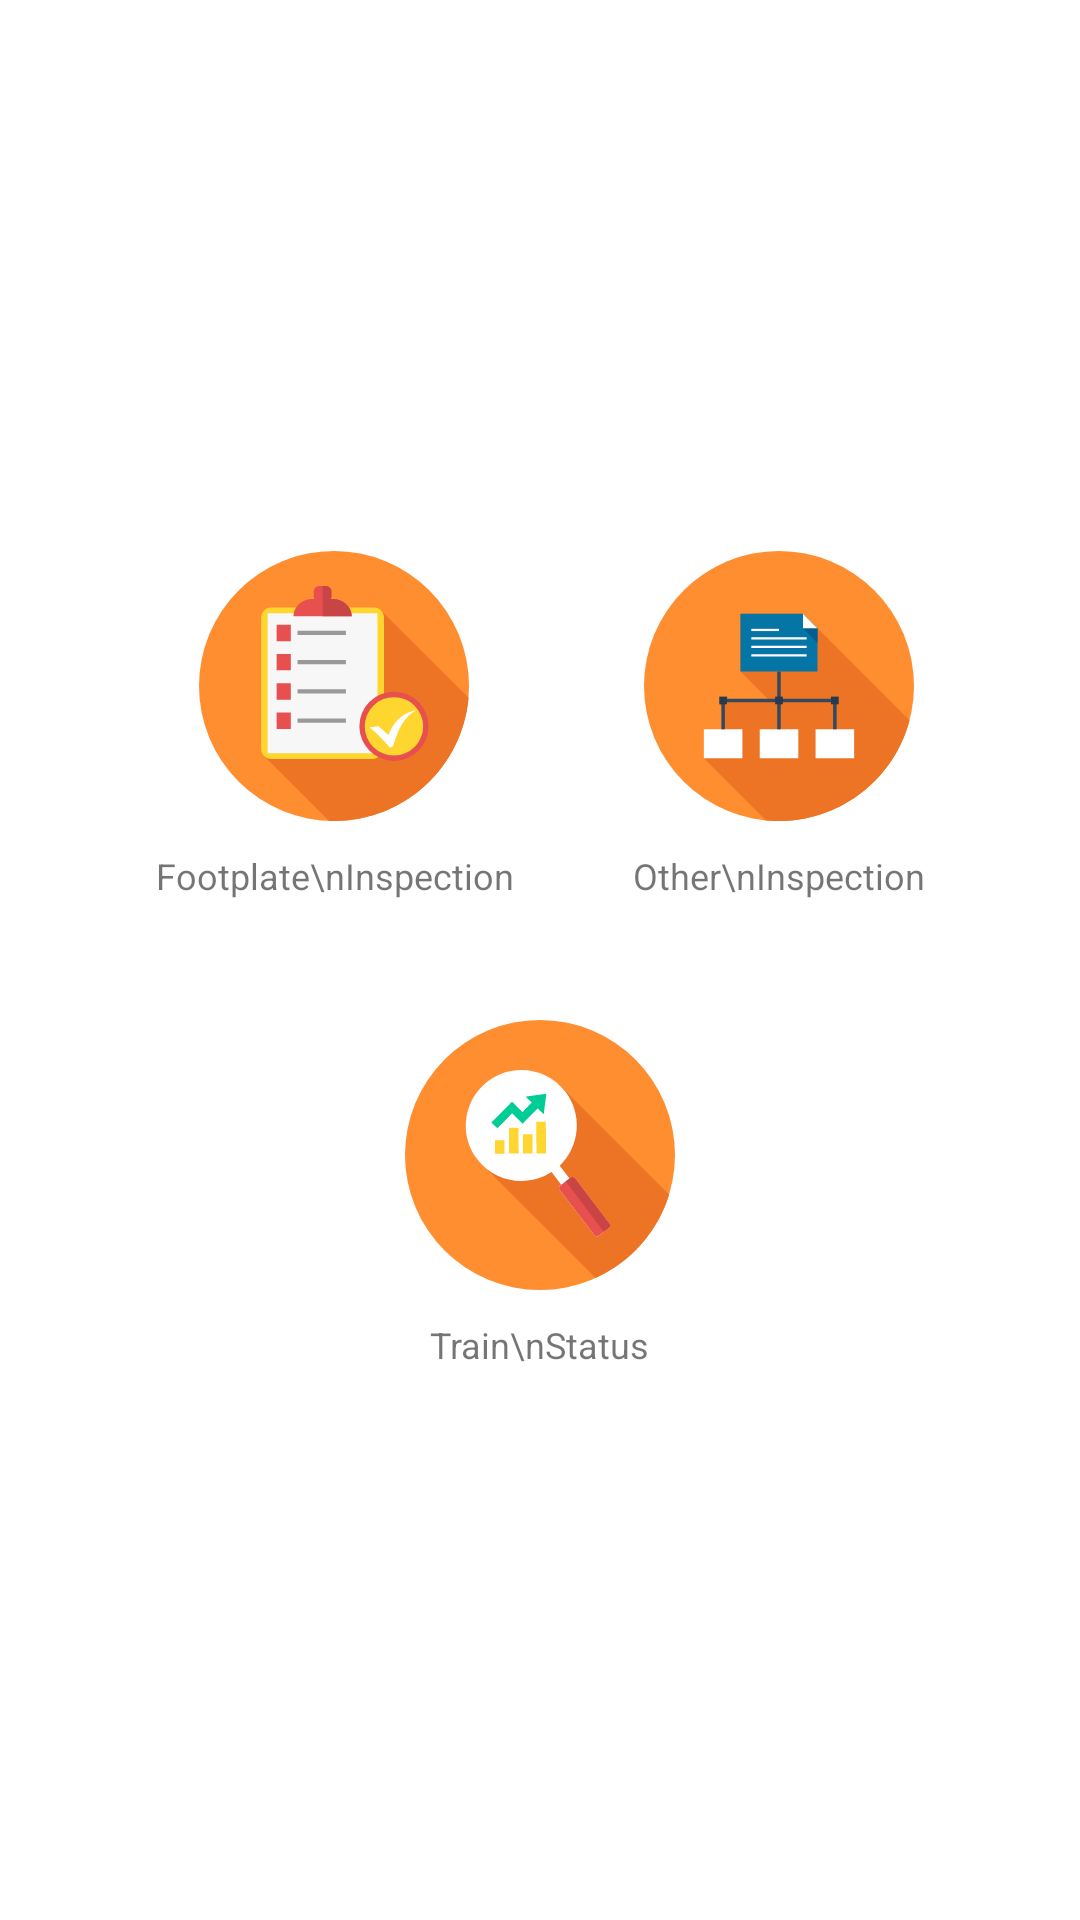

Named icons in this screenshot (1080px x 1920px) and their bounding boxes, (x1, y1, x2, y2):
analytics: (405, 1020, 675, 1290)
